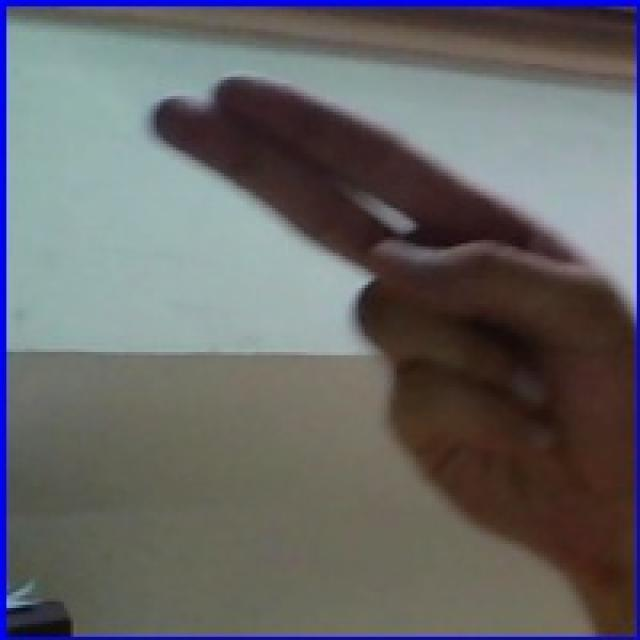H: (146, 35, 632, 632)
